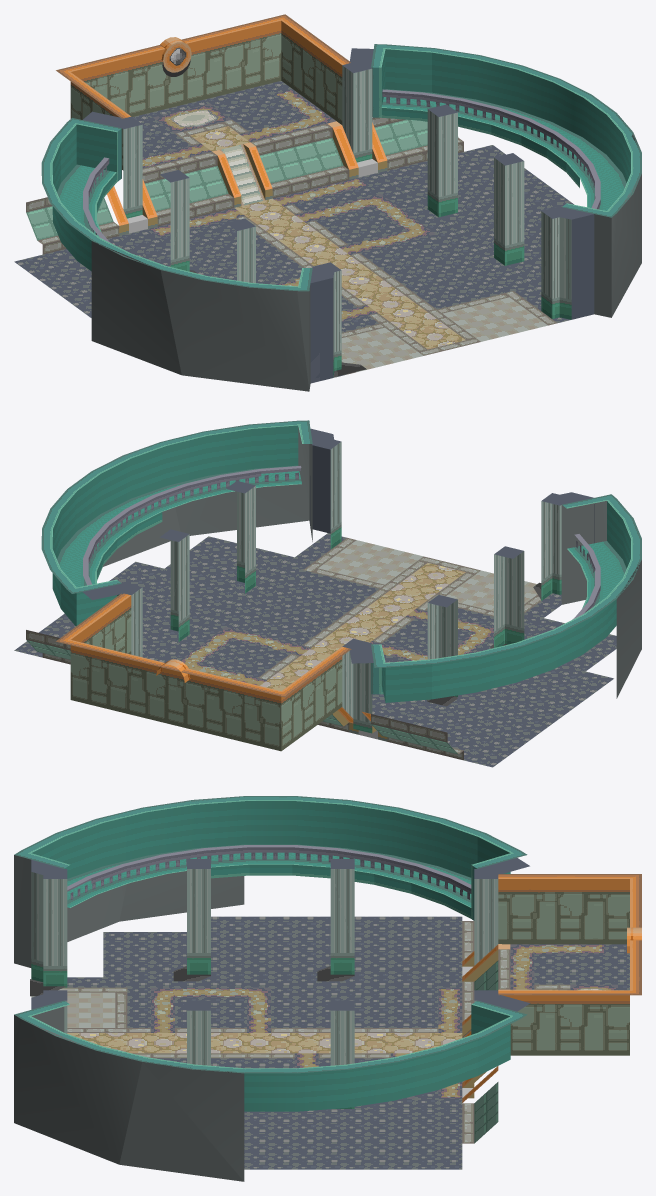
Rendered from ROCKGYM1.obj.
3 renders of one model, top to bottom at view 1: azimuth 30°, elevation 25°; view 2: azimuth 150°, elevation 25°; view 3: azimuth 270°, elevation 25°, orthographic. The views are drawn at different scales.
Visible parts, largest first — view 1: ROCKGYM; view 2: ROCKGYM; view 3: ROCKGYM.
Boxes of the visible parts, x1,y1,x2,y2 form: ROCKGYM: [14, 14, 641, 391]; ROCKGYM: [14, 420, 641, 767]; ROCKGYM: [14, 796, 641, 1181].
Bounding box in the file's own units: 438 × 84 × 420.
